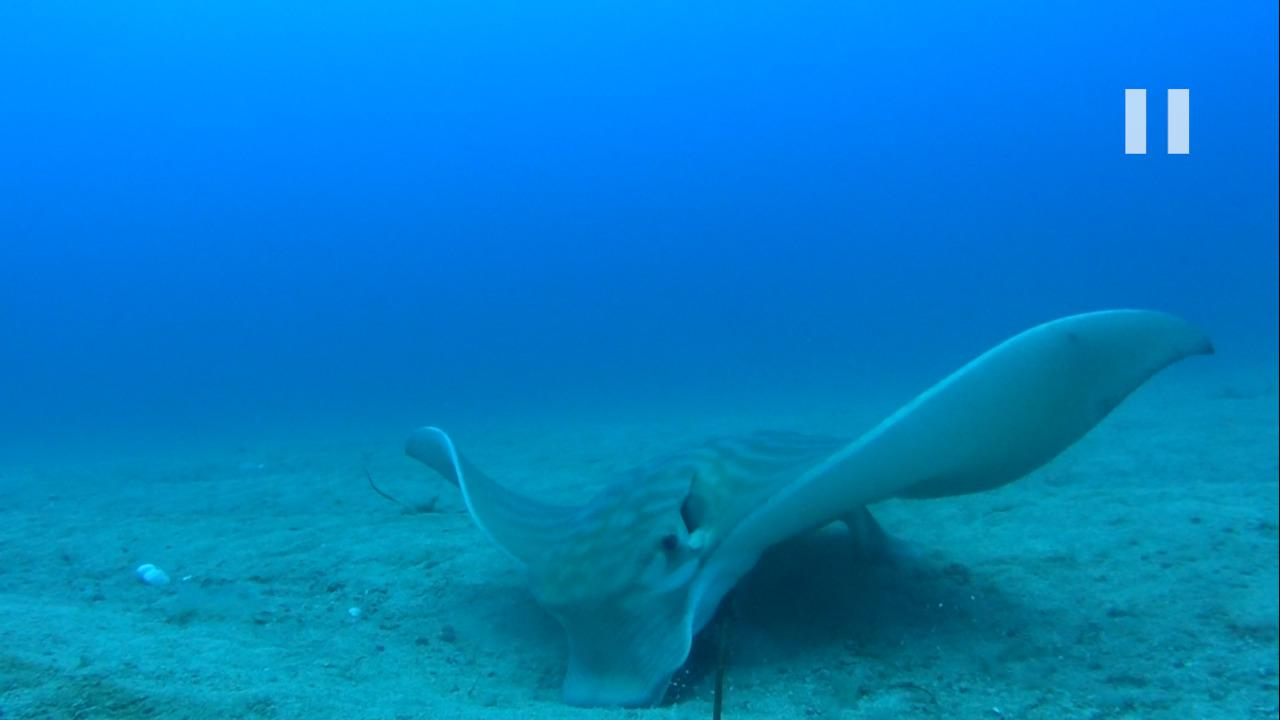myliobatis: (397, 297, 1220, 711)
